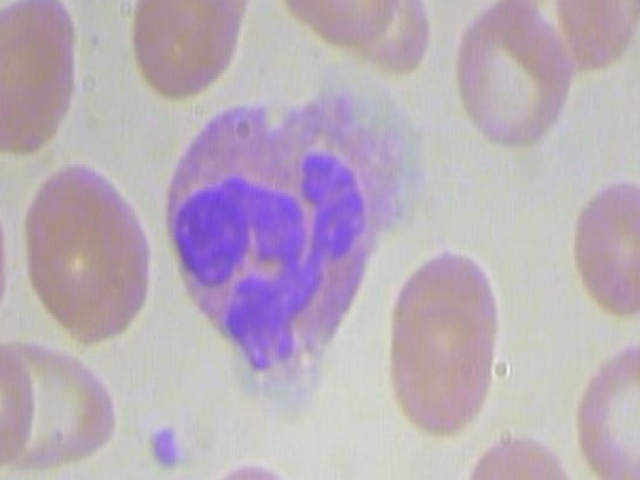Platelets: (138, 416, 194, 480)
RBC: (442, 0, 578, 157), (373, 249, 504, 394), (367, 292, 498, 436), (19, 163, 126, 323), (44, 181, 151, 341), (560, 169, 640, 312), (128, 0, 242, 98), (573, 331, 640, 480), (465, 427, 580, 480), (271, 0, 386, 35), (189, 460, 304, 480)
WBC: (135, 85, 438, 409)
